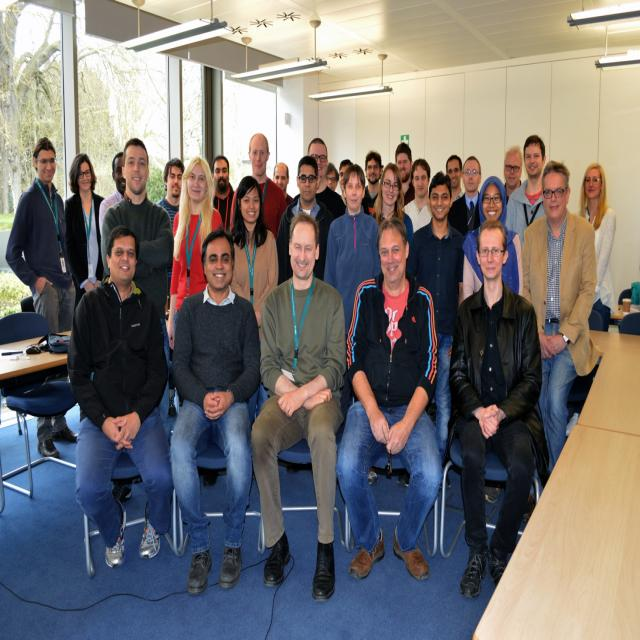body: (336, 219, 441, 583), (249, 207, 346, 601), (65, 220, 172, 566), (448, 220, 544, 602), (171, 230, 261, 596), (521, 159, 598, 472), (4, 135, 76, 460), (100, 136, 174, 450), (404, 170, 461, 466), (323, 164, 384, 422), (229, 175, 280, 424), (167, 155, 224, 351), (154, 158, 189, 416), (276, 153, 335, 288), (572, 161, 617, 333), (462, 175, 522, 301), (64, 152, 106, 314), (229, 131, 288, 241), (503, 134, 548, 252), (290, 137, 348, 221), (367, 162, 415, 249), (446, 155, 482, 236), (98, 151, 128, 241), (401, 158, 430, 247), (210, 153, 235, 232), (360, 150, 384, 216), (394, 141, 416, 206), (502, 146, 524, 208), (445, 153, 465, 204), (325, 158, 352, 195), (272, 162, 294, 206)
